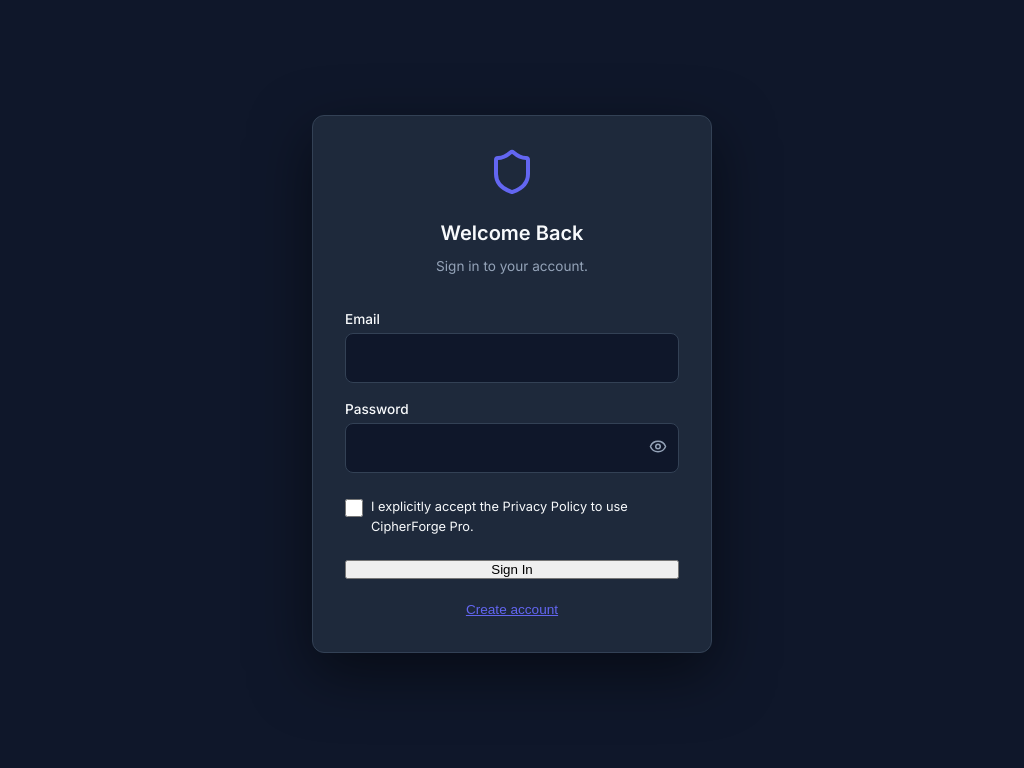
it: LoginScreen sign-in › rejects a wrong password with a uniform message
This screenshot has width=1024, height=768.
Step 1. Type "ada@example.com" into the field labelled "Email" → (512, 358), box [345, 333, 679, 383]
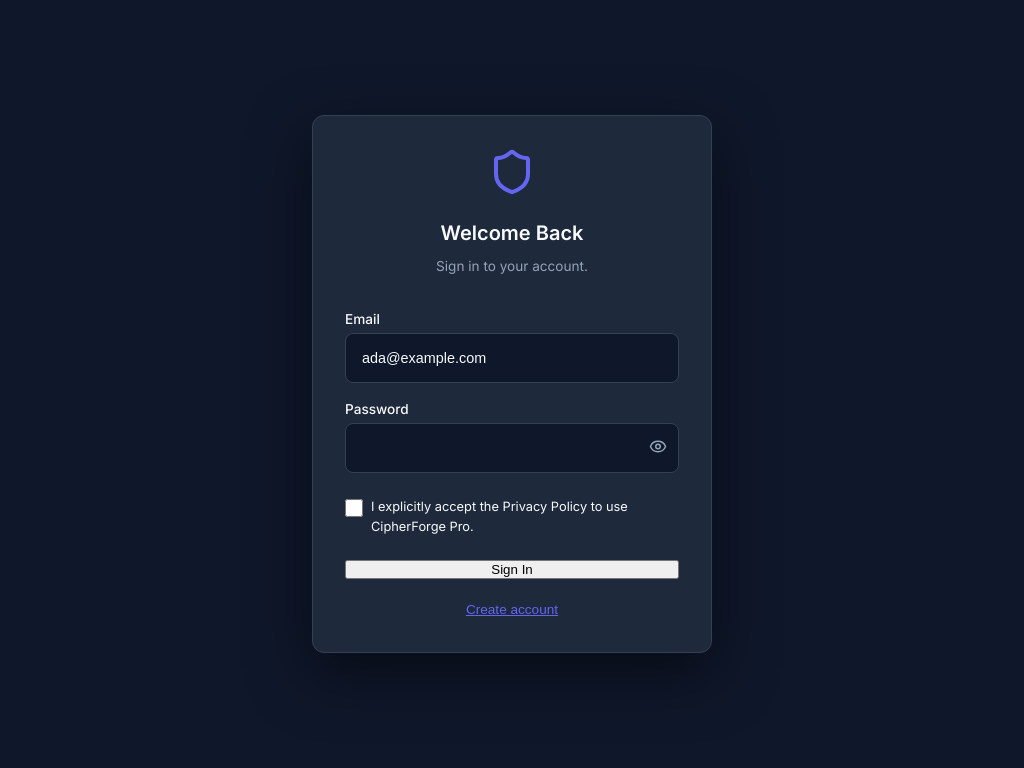
Step 2. Type "wrong-password-entirely" into the password field labelled "Password" → (512, 448), box [345, 423, 679, 473]
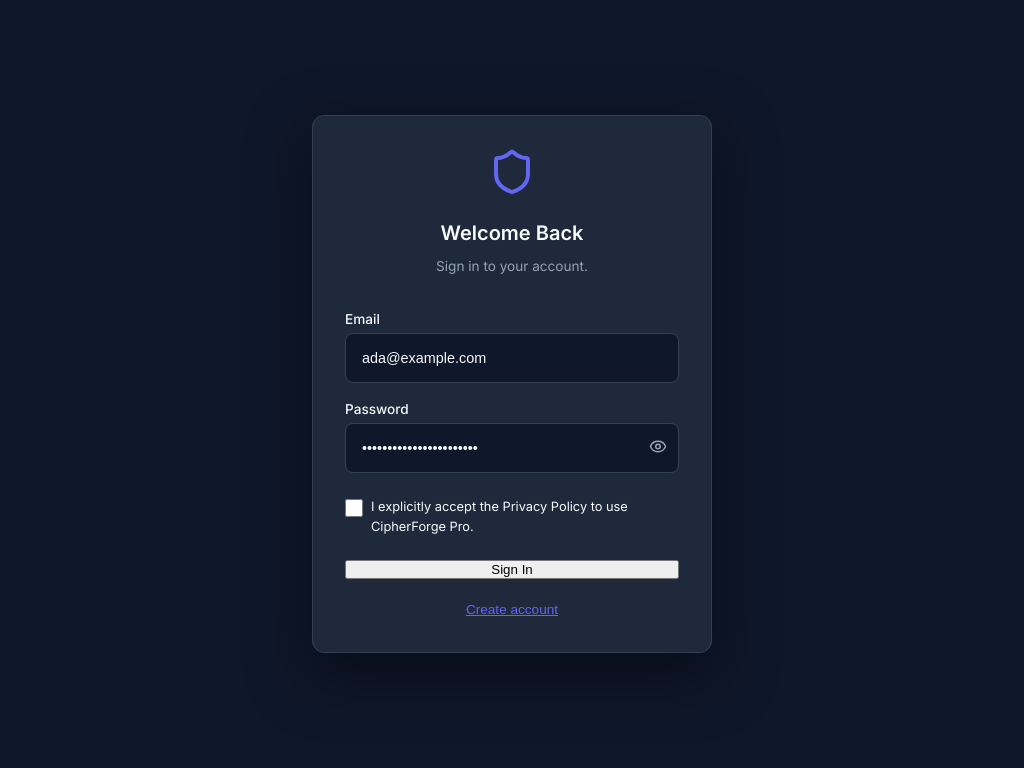
Step 3. Click the checkbox labelled "I explicitly accept the Privacy Policy to use CipherForge Pro." → (354, 508), box [345, 499, 363, 517]
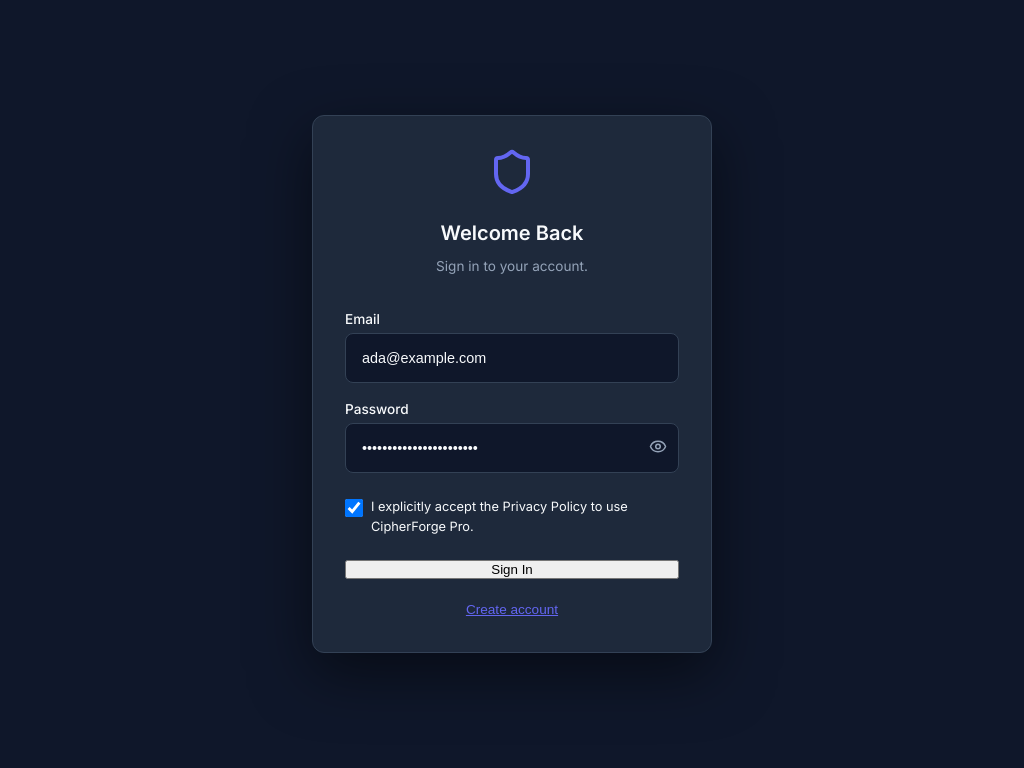
Step 4. Submit the form labelled "Email", box [345, 309, 679, 620]
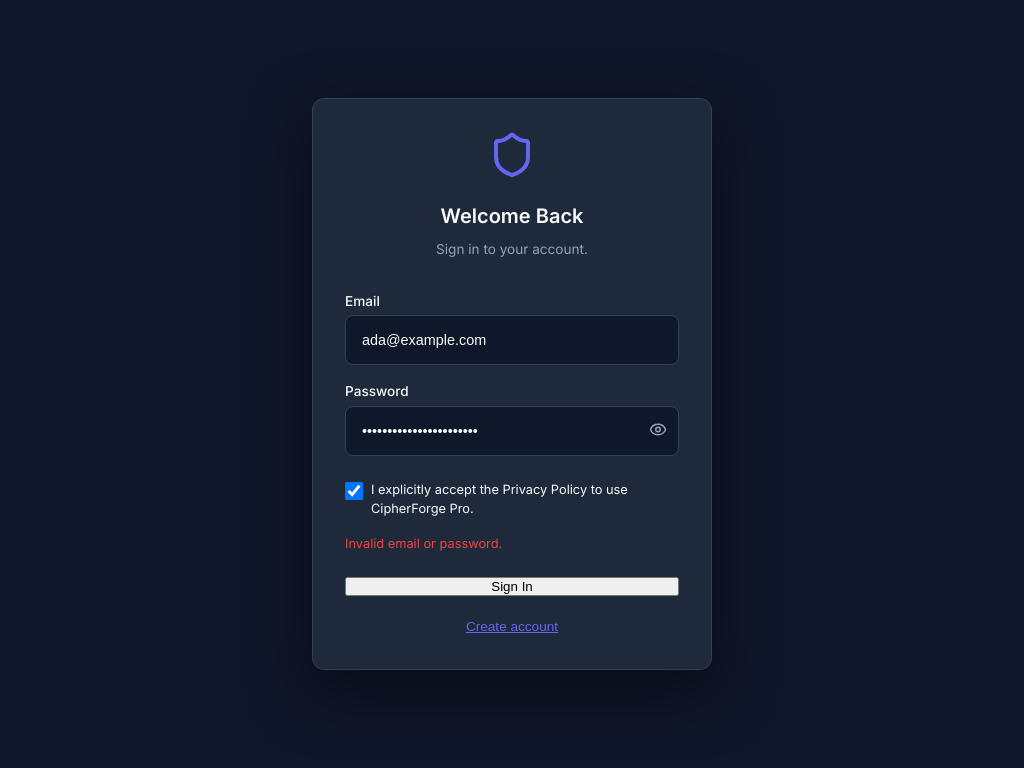
Expected: the message reads "Invalid email or password.", [345, 536, 502, 551]
